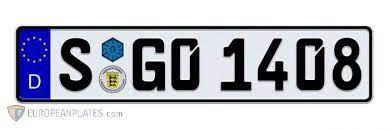0: (293, 36, 335, 93), (168, 35, 203, 93)
1: (218, 33, 254, 94)
4: (255, 38, 295, 91)
8: (331, 36, 365, 94)
G: (131, 35, 168, 93)
S: (57, 36, 94, 92)
